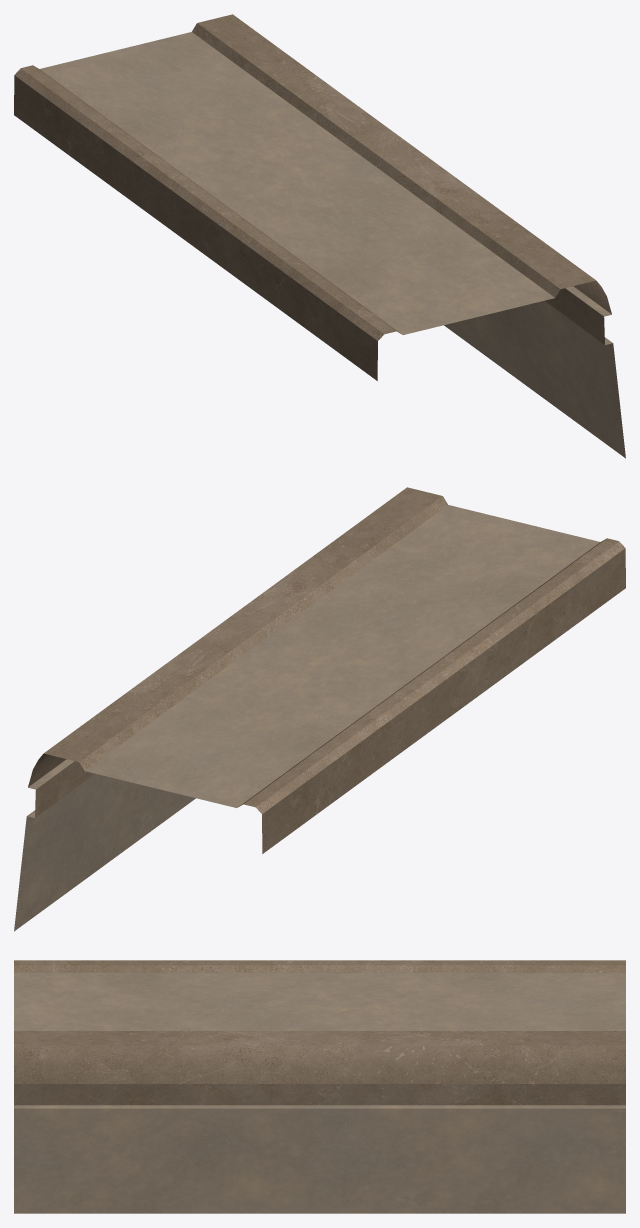
The model's file is Trottoir_2.1.fbx.
3 renders of one model, top to bottom at view 1: azimuth 30°, elevation 25°; view 2: azimuth 150°, elevation 25°; view 3: azimuth 270°, elevation 25°, orthographic. The views are drawn at different scales.
Visible parts, largest first — view 1: Trottoir_2.1; view 2: Trottoir_2.1; view 3: Trottoir_2.1.
Boxes of the visible parts, box(x1,y1,x2,y2) form: Trottoir_2.1: box(14, 14, 625, 458); Trottoir_2.1: box(14, 487, 625, 931); Trottoir_2.1: box(14, 960, 625, 1213).
Size of the model in its own units: 856 by 611 by 2171.
